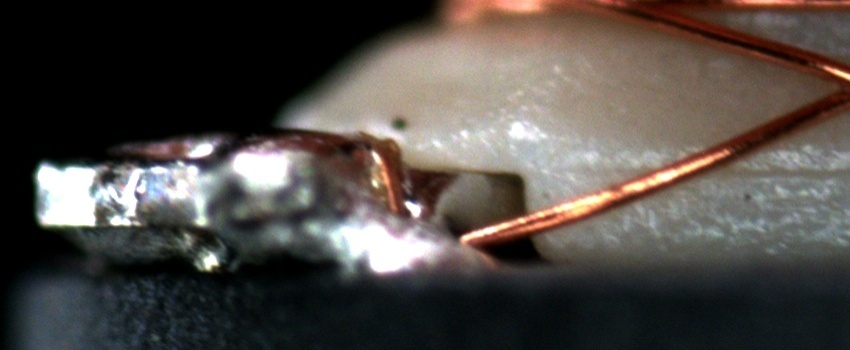DL: (560, 138, 850, 202)
TE: (361, 137, 411, 225)
